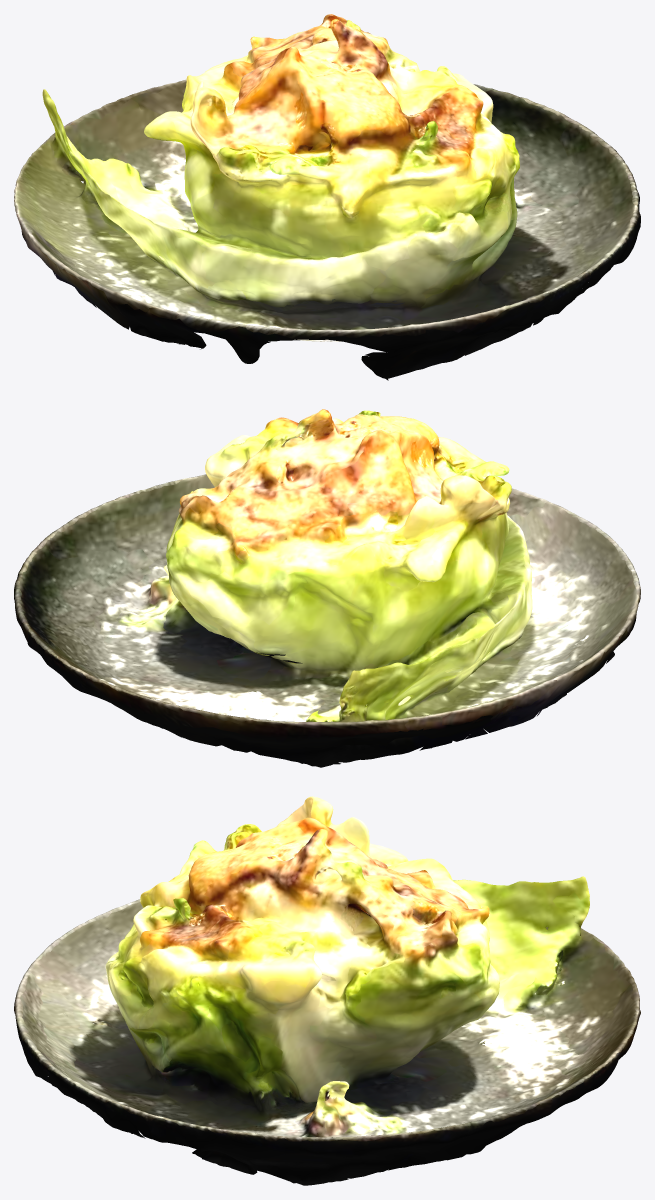
The model's file is lettuce-cup.glb.
3 views of the same model, one above another, from view 1: azimuth 30°, elevation 25°; view 2: azimuth 150°, elevation 25°; view 3: azimuth 270°, elevation 25° (orthographic).
Parts seen in each view (by area): view 1: scan_1, scan_0, scan_2; view 2: scan_1, scan_0, scan_2; view 3: scan_1, scan_0, scan_2.
Boxes of the visible parts, box(x1,y1,x2,y2) form: scan_1: box(15, 14, 640, 378); scan_0: box(14, 19, 640, 380); scan_2: box(54, 14, 620, 359); scan_1: box(14, 411, 640, 767); scan_0: box(19, 409, 640, 764); scan_2: box(51, 409, 589, 750); scan_1: box(16, 796, 640, 1185); scan_0: box(14, 829, 630, 1166); scan_2: box(27, 814, 606, 1163).
Bounding box in the file's own units: 0.24 × 0.1078 × 0.2399.
Materials: 3 (3 with a texture image).
